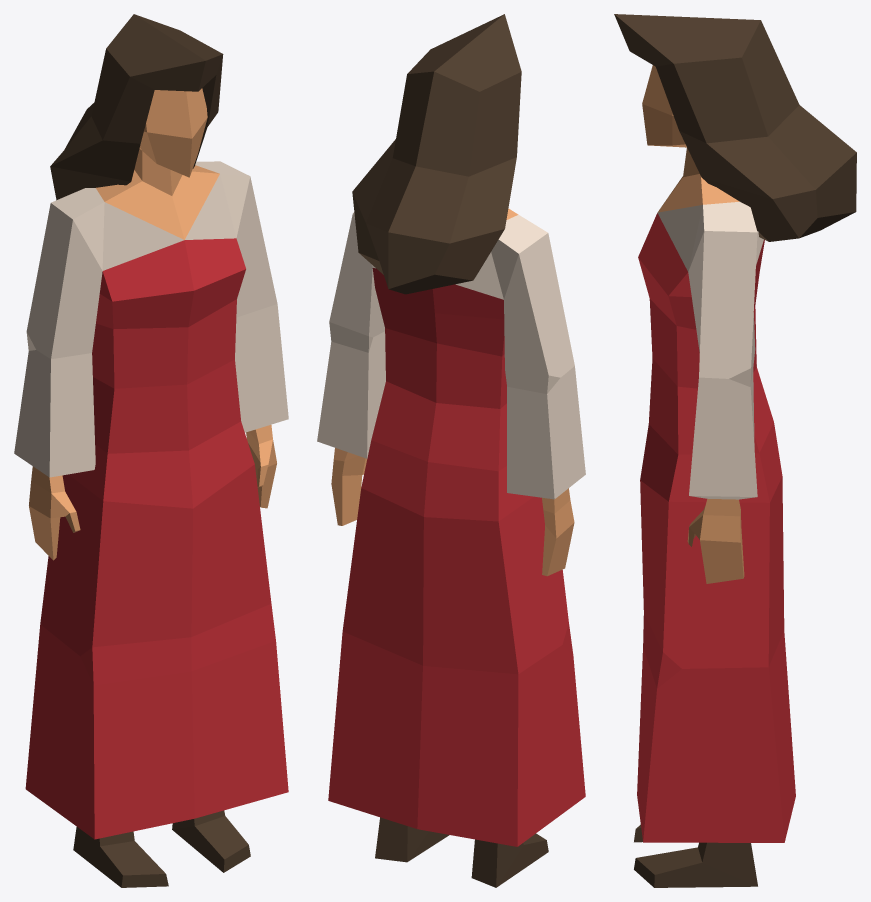
Rendered from woman-dress.glb.
3 renders of one model, left to right at view 1: azimuth 30°, elevation 25°; view 2: azimuth 150°, elevation 25°; view 3: azimuth 270°, elevation 25°, orthographic. The views are drawn at different scales.
Parts seen in each view (by area): view 1: woman-dress; view 2: woman-dress; view 3: woman-dress.
Boxes of the visible parts, <box> form: woman-dress: <box>14,14,288,887</box>; woman-dress: <box>317,14,585,887</box>; woman-dress: <box>614,14,856,887</box>.
Size of the model in its own units: 0.5642 by 1.84 by 0.4798.
1 material, 1 textured.
